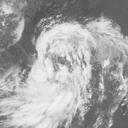cyclone: (10, 20, 117, 120)
